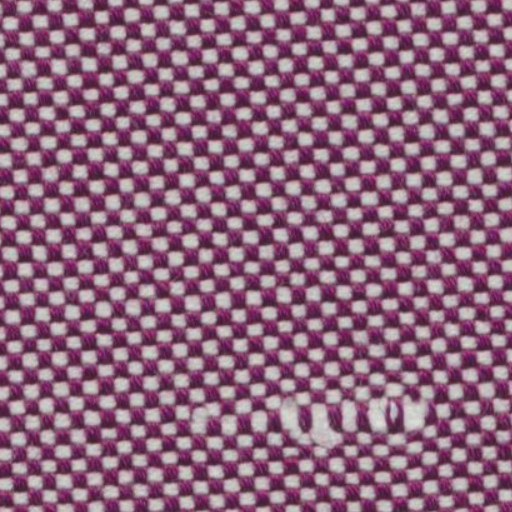DaiSha: (189, 378, 448, 470)
